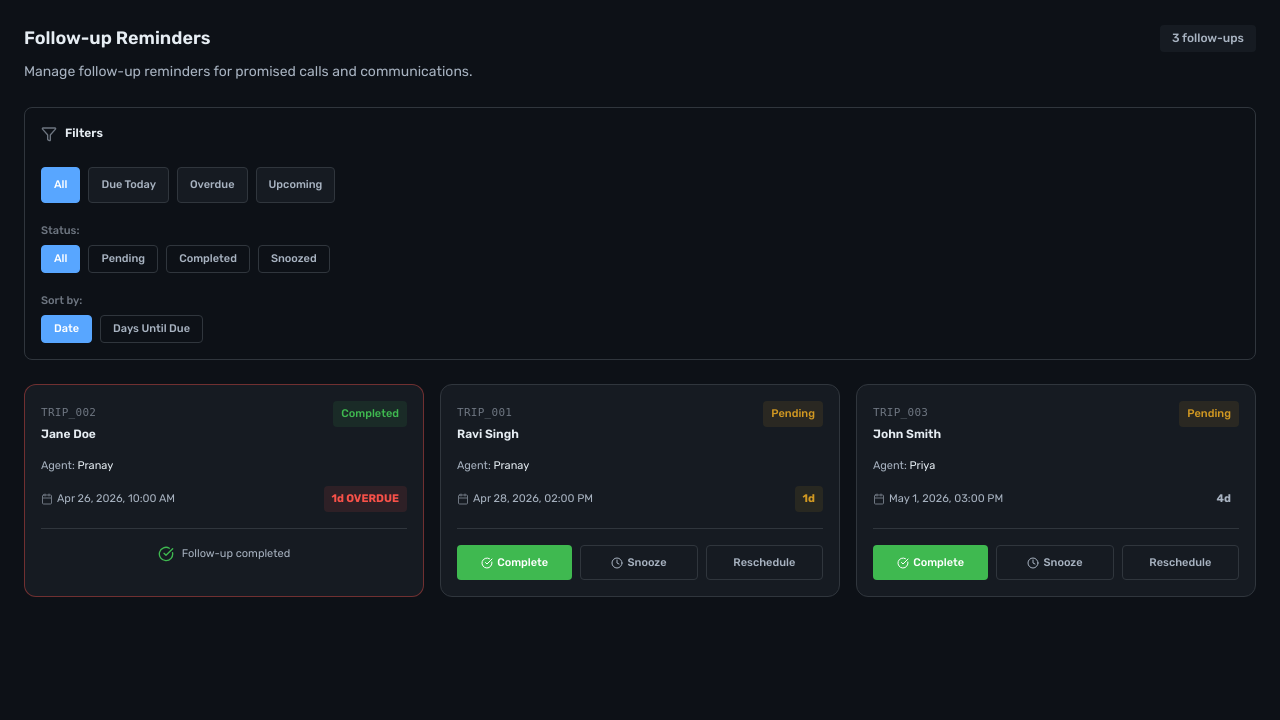
Test: FollowupsPage › updates count when filtering changes results
Expected: the text "3 follow-ups" is shown, [1160,25,1256,52]
Note: Click filter
Click the button "Due Today". click: (129, 185)
box: [88,167,169,203]
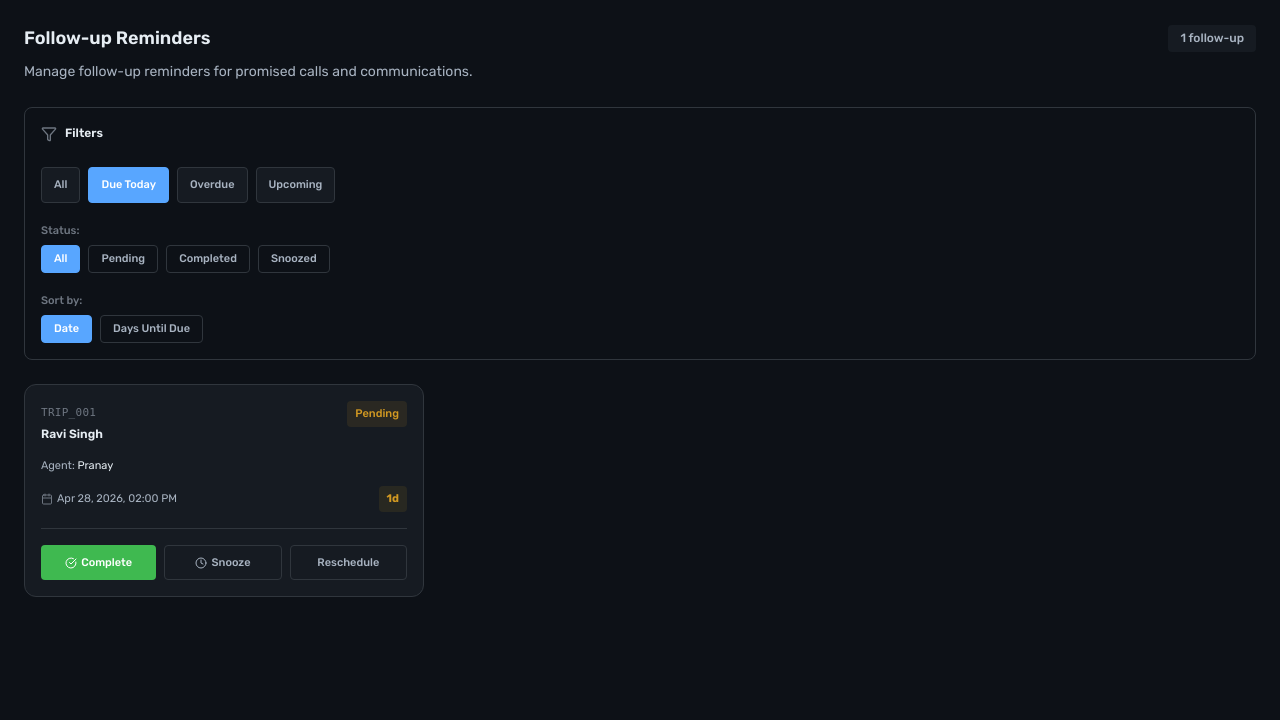
Expected: the text "1 follow-up" is shown, [1168,25,1256,52]
